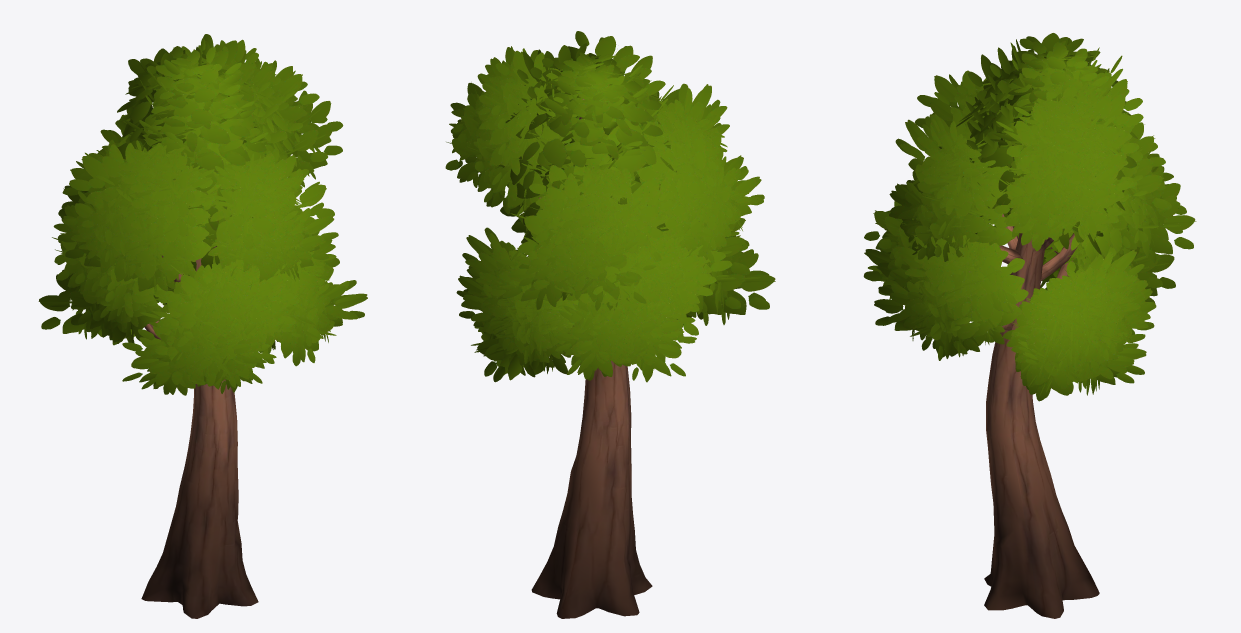
The model's file is qn-CommonTree_1.glb.
The picture shows the model from 3 angles, left to right: view 1: azimuth 30°, elevation 25°; view 2: azimuth 150°, elevation 25°; view 3: azimuth 270°, elevation 25°; orthographic projection. The views are drawn at different scales.
Visible parts, largest first — view 1: CommonTree_1; view 2: CommonTree_1; view 3: CommonTree_1.
Part boxes in pixels (left/top/right/bottom): CommonTree_1: left=38, top=34, right=367, bottom=618; CommonTree_1: left=445, top=31, right=775, bottom=618; CommonTree_1: left=863, top=33, right=1196, bottom=618.
Bounding box in the file's own units: 4.31 × 7.26 × 4.58.
2 materials, 2 textured.
